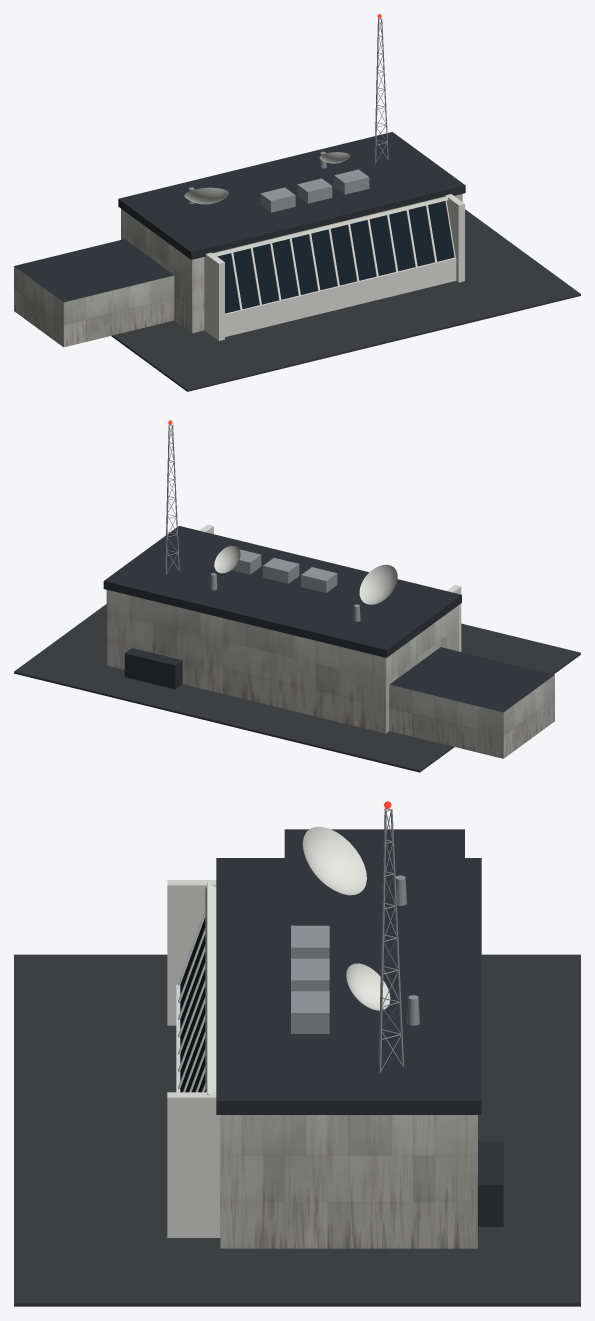
Rendered from EA09_launch_control.glb.
3 renders of one model, top to bottom at view 1: azimuth 30°, elevation 25°; view 2: azimuth 150°, elevation 25°; view 3: azimuth 270°, elevation 25°, orthographic. The views are drawn at different scales.
Parts seen in each view (by area): view 1: forecourt, roof_edge, support_annex, glass_wall, glazing_plinth, main_block, glazing_cheek (×2), rooftop_unit (×3), sun_shade, dish; view 2: main_block, roof_edge, forecourt, support_annex, rooftop_unit (×3), rear_entrance, dish (×2); view 3: forecourt, roof_edge, main_block, glazing_cheek (×2), dish (×2), rooftop_unit (×3), support_annex, glass_wall, sun_shade, rear_entrance.
Boxes of the visible parts, <box> form: forecourt: <box>111,209,580,391</box>; roof_edge: <box>118,132,465,259</box>; support_annex: <box>14,239,174,347</box>; glass_wall: <box>217,201,454,313</box>; glazing_plinth: <box>225,257,456,336</box>; main_block: <box>121,194,462,333</box>; glazing_cheek (×2): <box>204,194,464,340</box>; rooftop_unit (×3): <box>260,169,369,212</box>; sun_shade: <box>210,196,450,256</box>; dish: <box>184,187,229,204</box>; main_block: <box>106,590,458,733</box>; roof_edge: <box>103,526,461,657</box>; forecourt: <box>14,604,580,772</box>; support_annex: <box>389,647,554,758</box>; rooftop_unit (×3): <box>232,549,337,592</box>; rear_entrance: <box>124,648,182,689</box>; dish (×2): <box>214,546,397,604</box>; forecourt: <box>14,954,580,1306</box>; roof_edge: <box>216,858,481,1114</box>; main_block: <box>220,1115,477,1248</box>; glazing_cheek (×2): <box>167,880,220,1237</box>; dish (×2): <box>302,826,390,1010</box>; rooftop_unit (×3): <box>291,925,329,1033</box>; support_annex: <box>284,829,464,857</box>; glass_wall: <box>180,917,205,1092</box>; sun_shade: <box>205,881,216,1094</box>; rear_entrance: <box>478,1141,503,1226</box>.
Bounding box in the file's own units: 72 × 35.8 × 44.
9 materials, 2 textured.
